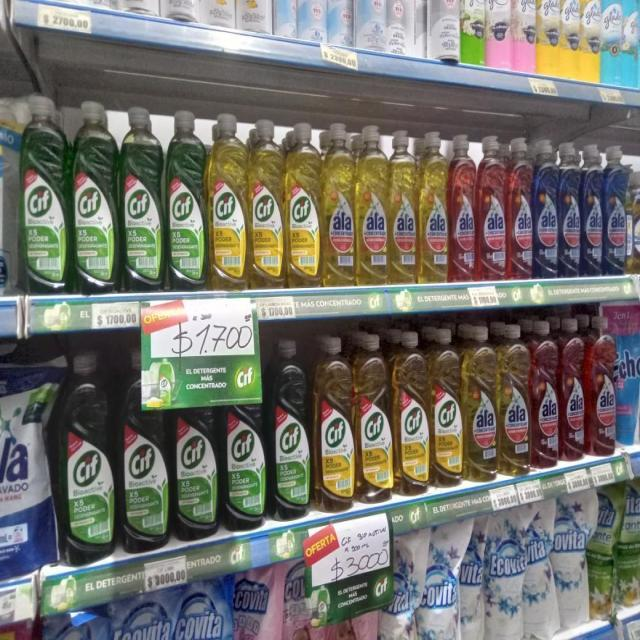ala_conc_amarillo: (322, 119, 355, 286), (464, 324, 497, 483), (356, 122, 387, 287), (498, 321, 530, 477), (419, 130, 448, 285), (389, 128, 417, 285)
ala_conc_azul: (534, 137, 558, 280), (604, 144, 627, 276), (559, 142, 581, 278), (582, 142, 603, 278)
ala_conc_rojo: (478, 133, 507, 283), (586, 314, 616, 459), (531, 320, 559, 470), (450, 133, 476, 283), (560, 316, 585, 463), (508, 135, 532, 281)
cif_conc_bot_amarilla: (314, 334, 354, 513), (208, 110, 247, 290), (356, 333, 392, 504), (250, 116, 284, 290), (286, 119, 321, 288), (394, 329, 429, 496), (431, 325, 463, 489)
cif_conc_botella_verde: (58, 350, 116, 566), (119, 346, 170, 554), (21, 94, 69, 296), (72, 97, 118, 297), (120, 104, 164, 293), (269, 337, 311, 520), (166, 108, 206, 292), (222, 368, 267, 531), (173, 390, 220, 540)
magistral_con_amarillo: (632, 165, 640, 275)
magistral_con_azul: (39, 609, 107, 640)
